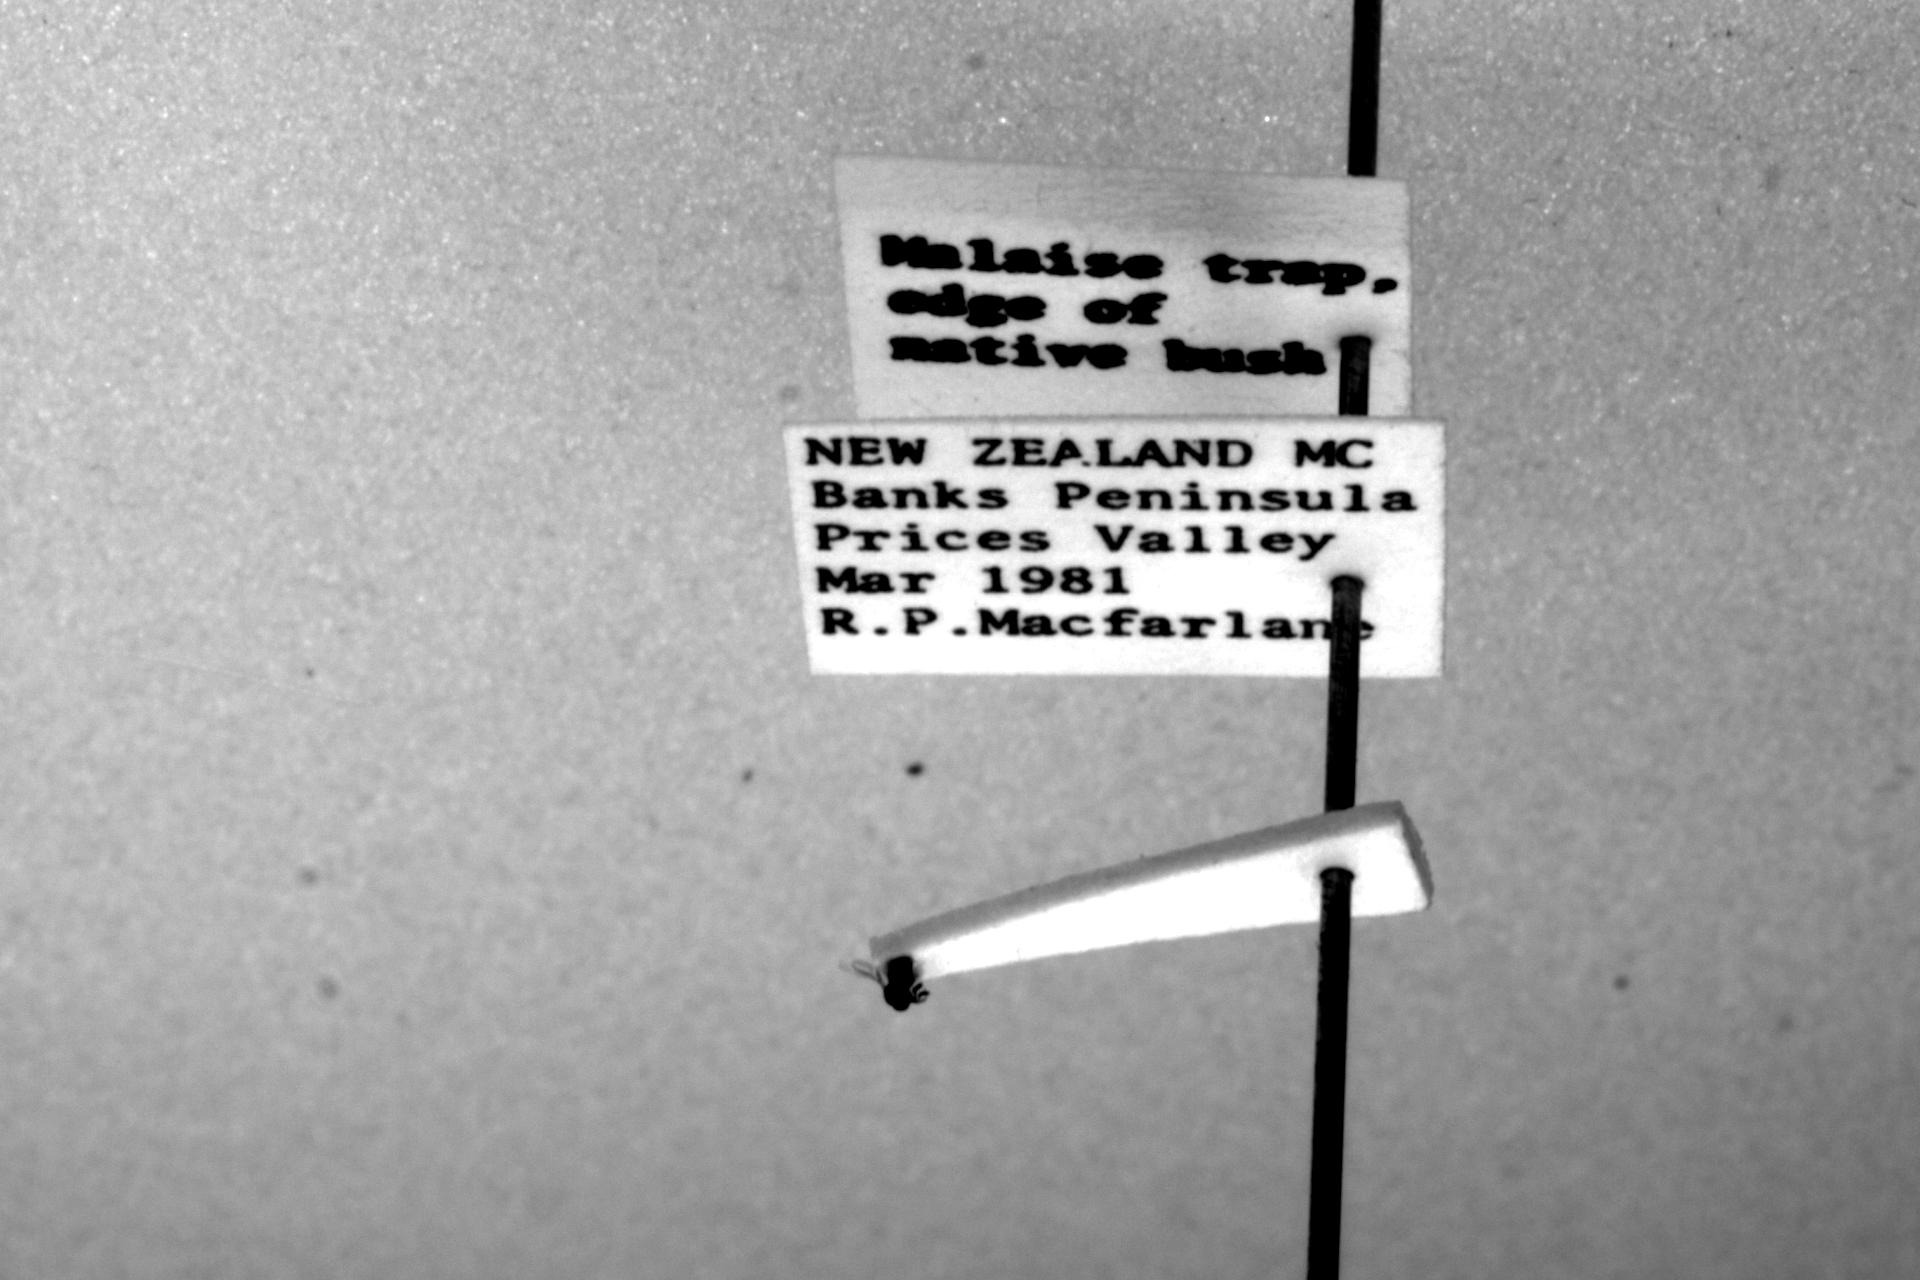typed_label: (784, 416, 1444, 679), (836, 154, 1410, 420)
